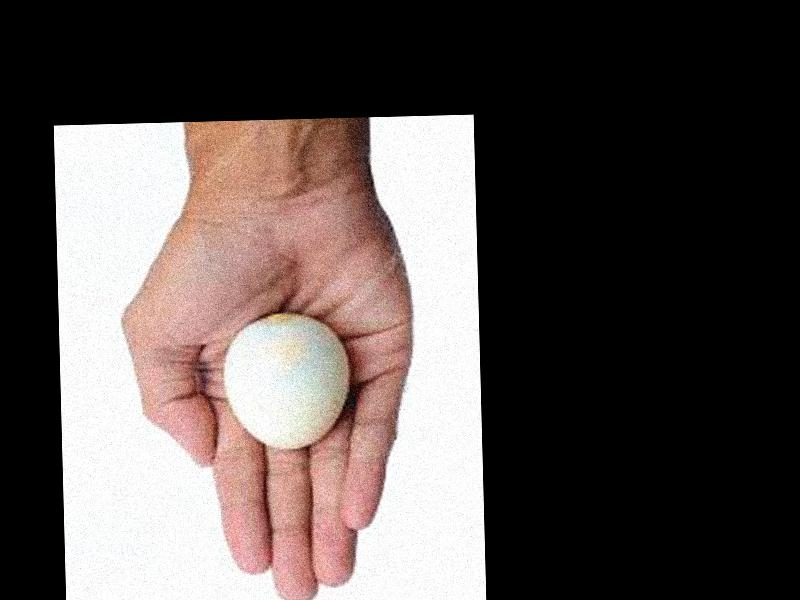Eggs: (225, 312, 348, 453)
